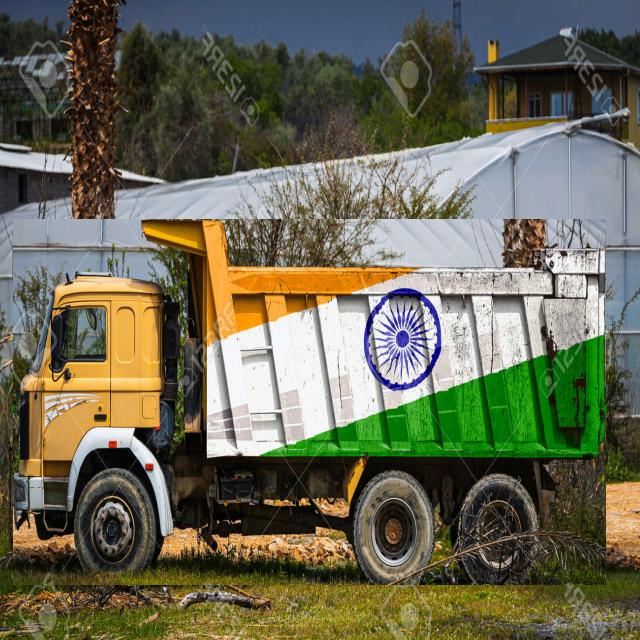truck: (13, 219, 605, 585)
